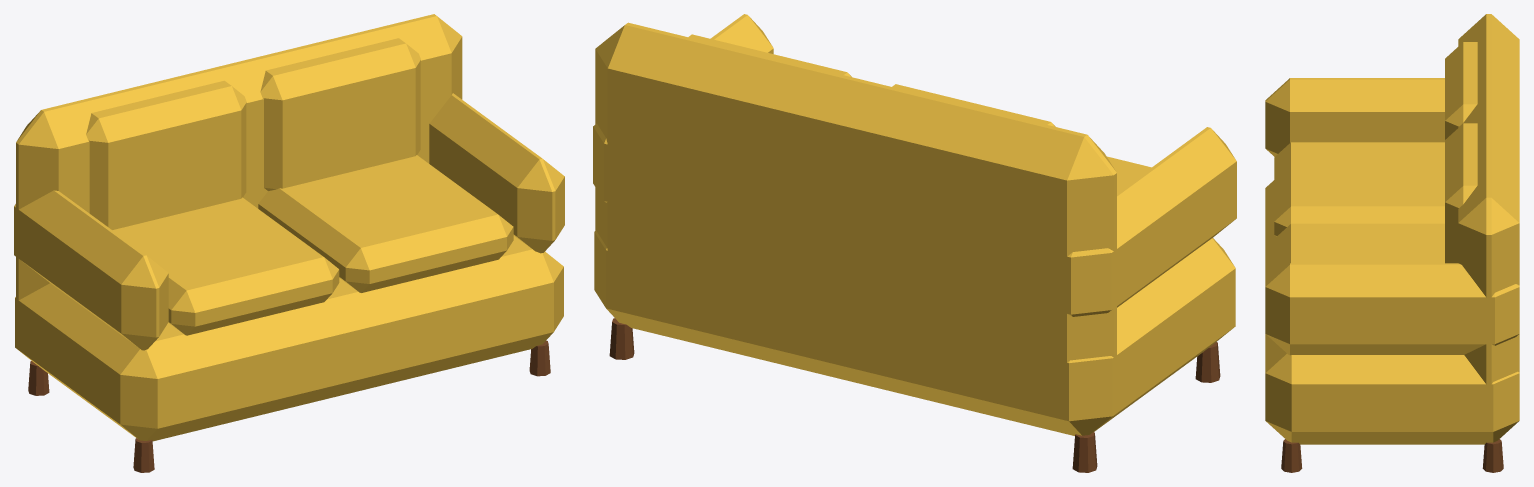
File: YellowSofa.fbx
3 views of the same model, side by side, from view 1: azimuth 30°, elevation 25°; view 2: azimuth 150°, elevation 25°; view 3: azimuth 270°, elevation 25° (orthographic). The views are drawn at different scales.
Visible parts, largest first — view 1: YellowSofa; view 2: YellowSofa; view 3: YellowSofa.
Part boxes in pixels (<box>): YellowSofa: <box>14,14,564,472</box>; YellowSofa: <box>593,14,1236,472</box>; YellowSofa: <box>1265,14,1519,472</box>.
Size of the model in its own units: 5.6 by 3.4 by 2.9.
1 material, 1 textured.
